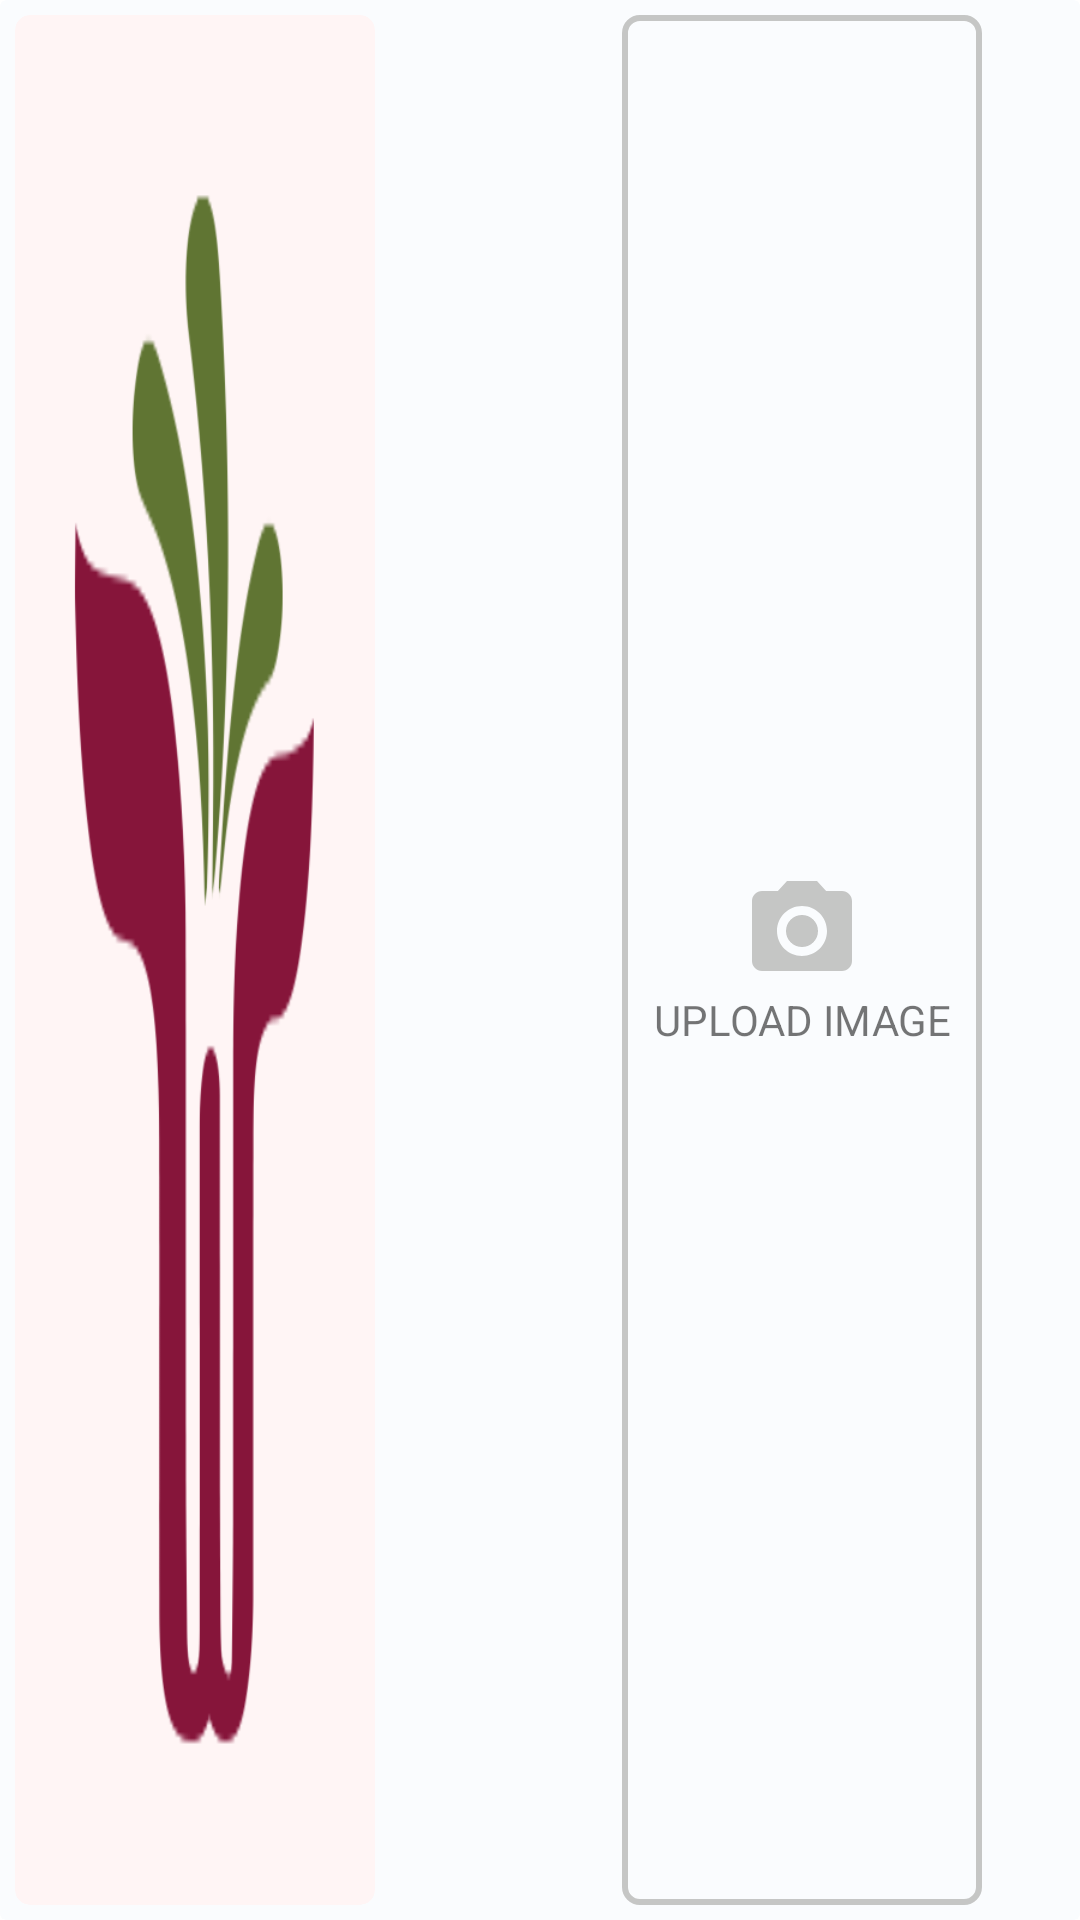

Named icons in this screenshot (1080×1920) and their bounding boxes, [x1, y1, x2, y2]:
camera: [752, 881, 852, 971]
